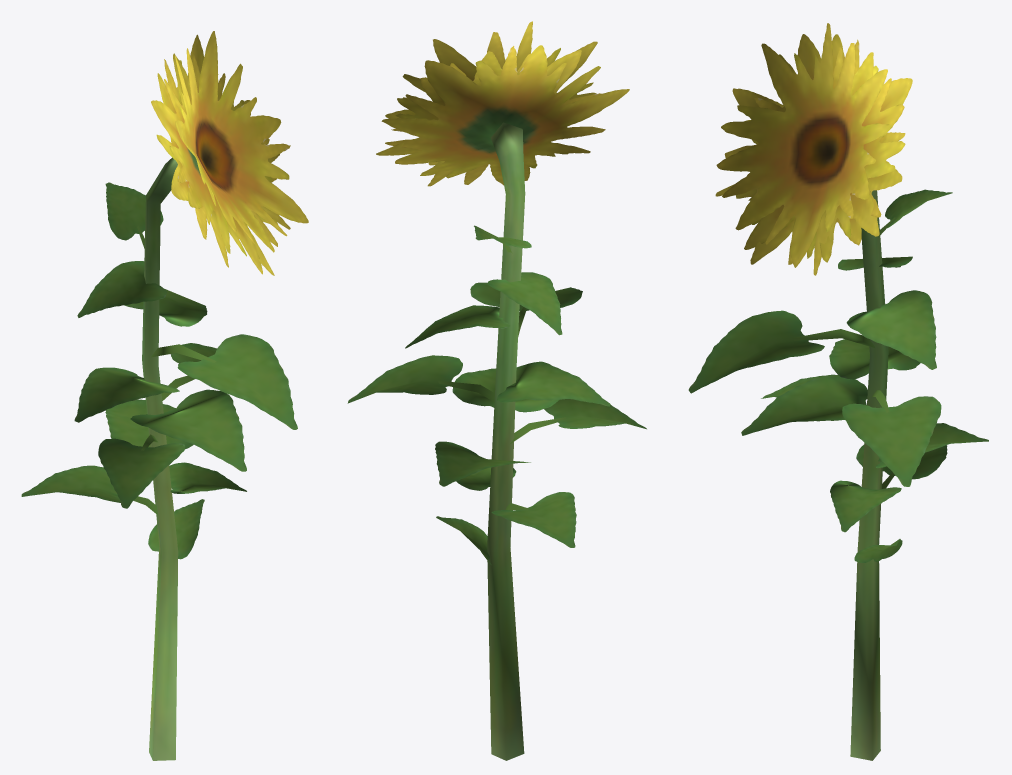
Rendered from P_Sunflower2.obj.
3 renders of one model, left to right at view 1: azimuth 30°, elevation 25°; view 2: azimuth 150°, elevation 25°; view 3: azimuth 270°, elevation 25°, orthographic.
Bounding box in the file's own units: 0.711 × 1.95 × 0.7524.
